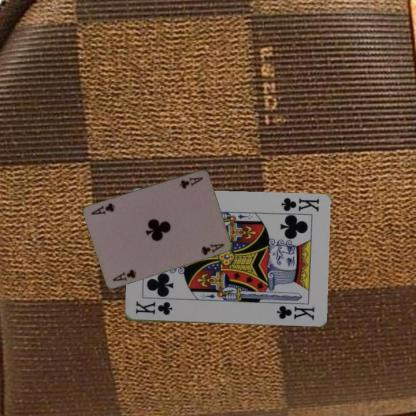Ac: (110, 266, 137, 282), (178, 174, 204, 189)
Kc: (277, 195, 320, 213), (133, 299, 173, 316)
